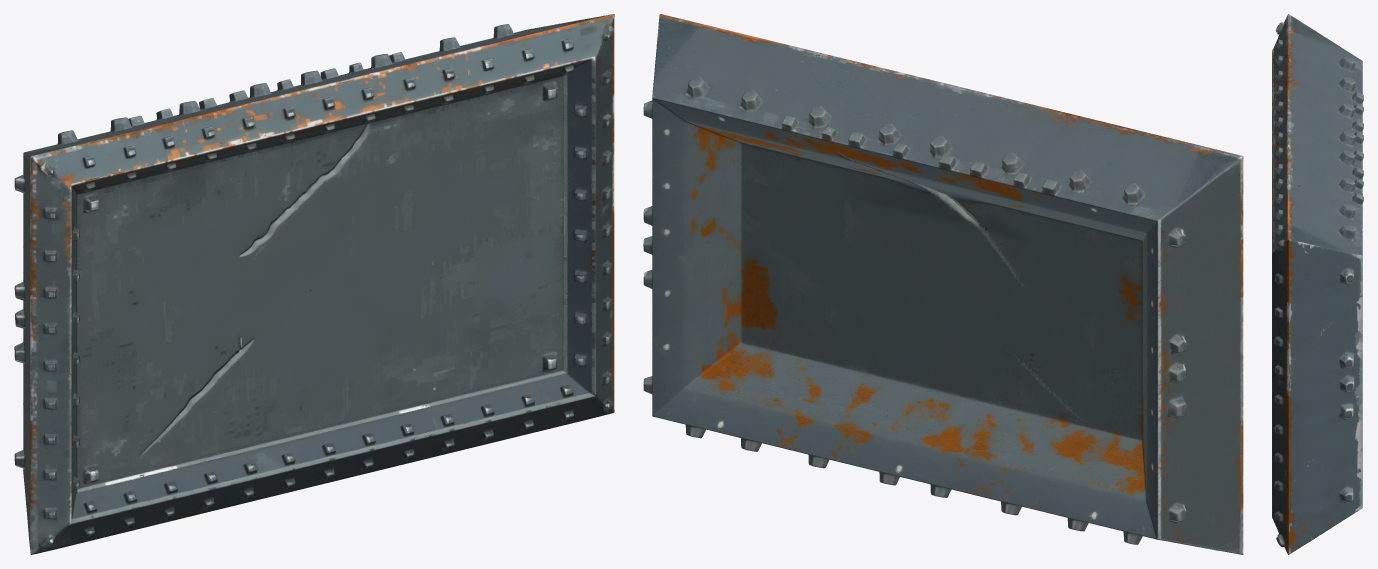
Rendered from Meshy_AI_Riveted_Steel_Hatch_0406005541_texture.glb.
3 views of the same model, side by side, from view 1: azimuth 30°, elevation 25°; view 2: azimuth 150°, elevation 25°; view 3: azimuth 270°, elevation 25° (orthographic). The views are drawn at different scales.
Bounding box in the file's own units: 1.9 × 1.24 × 0.3272.
Materials: 1 (1 with a texture image).
